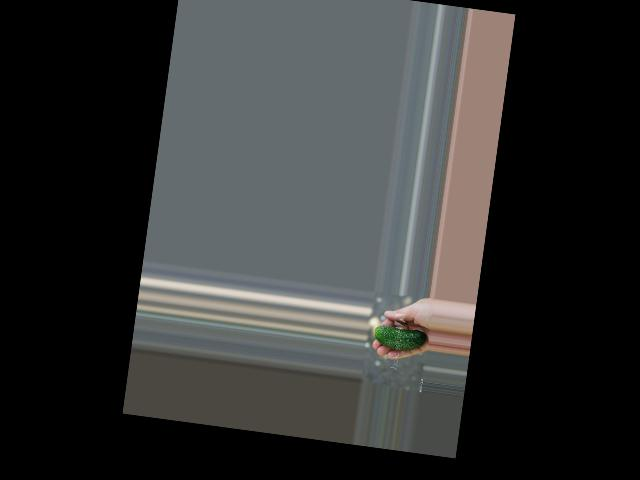cucumber: (373, 324, 427, 353)
